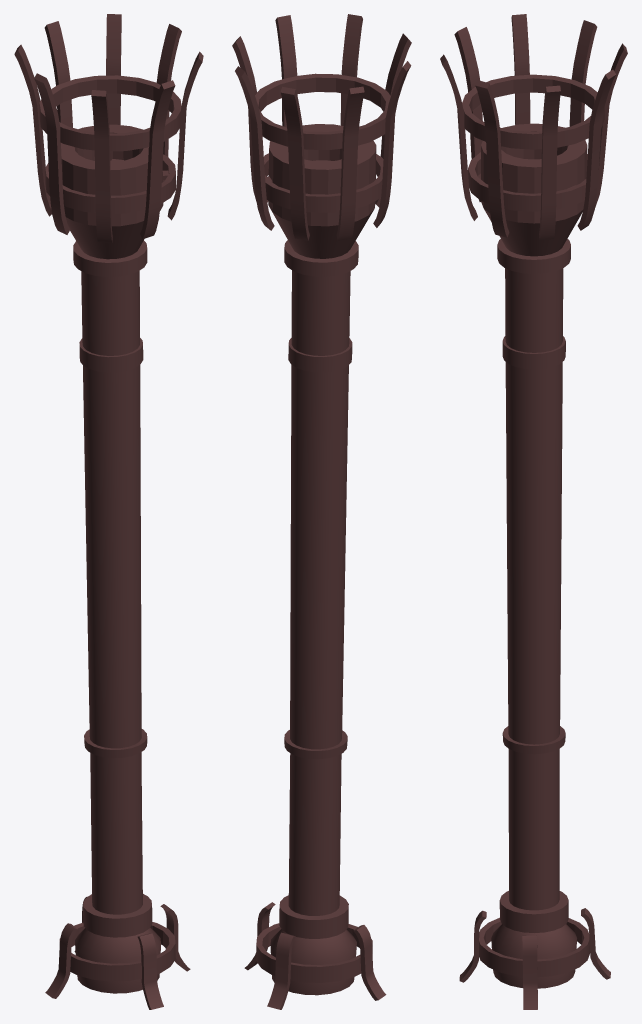
Rendered from Antorcha de piso Substance dorada.fbx.
The picture shows the model from 3 angles, left to right: view 1: azimuth 30°, elevation 25°; view 2: azimuth 150°, elevation 25°; view 3: azimuth 270°, elevation 25°; orthographic projection.
Visible parts, largest first — view 1: Palo_LOW1; view 2: Palo_LOW1; view 3: Palo_LOW1.
Boxes of the visible parts, left/top/right/bottom form: Palo_LOW1: left=14, top=14, right=203, bottom=1009; Palo_LOW1: left=232, top=14, right=411, bottom=1009; Palo_LOW1: left=440, top=14, right=627, bottom=1009.
Size of the model in its own units: 0.4983 by 2.8 by 0.5162.
